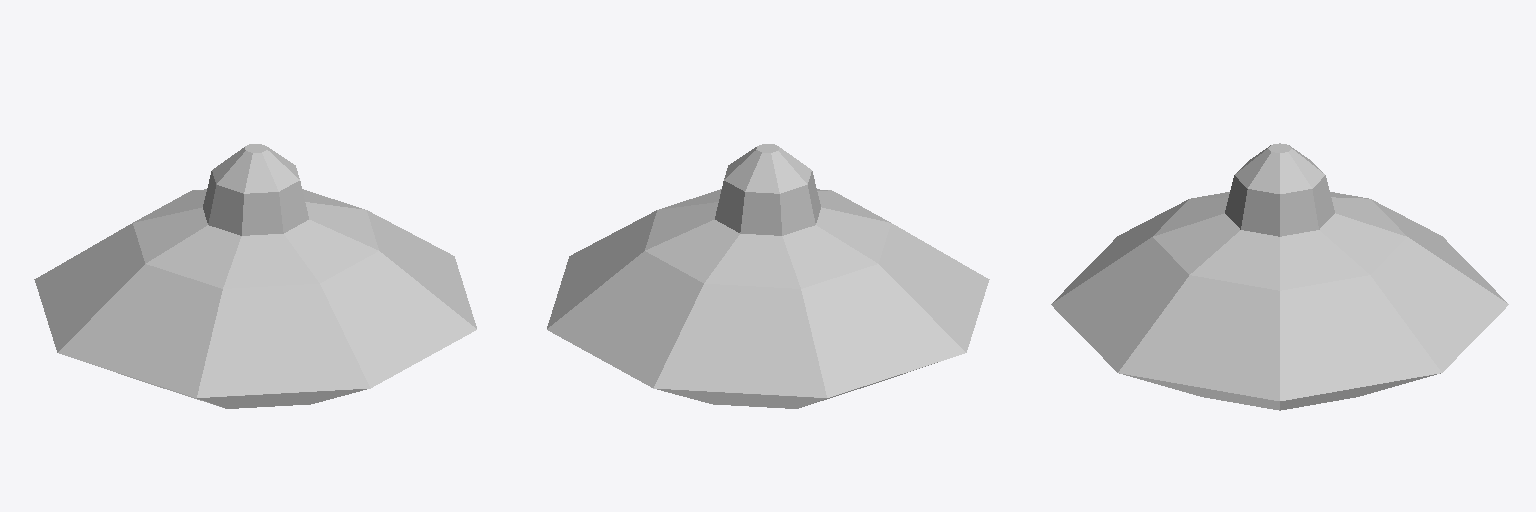
The model's file is basic_ufo.obj.
3 renders of one model, left to right at view 1: azimuth 30°, elevation 25°; view 2: azimuth 150°, elevation 25°; view 3: azimuth 270°, elevation 25°, orthographic.
Parts seen in each view (by area): view 1: Circle; view 2: Circle; view 3: Circle.
Part boxes in pixels (bbox=[...]): Circle: bbox=[34, 144, 476, 408]; Circle: bbox=[547, 144, 989, 408]; Circle: bbox=[1051, 143, 1508, 410].
Size of the model in its own units: 2 by 1.04 by 2.